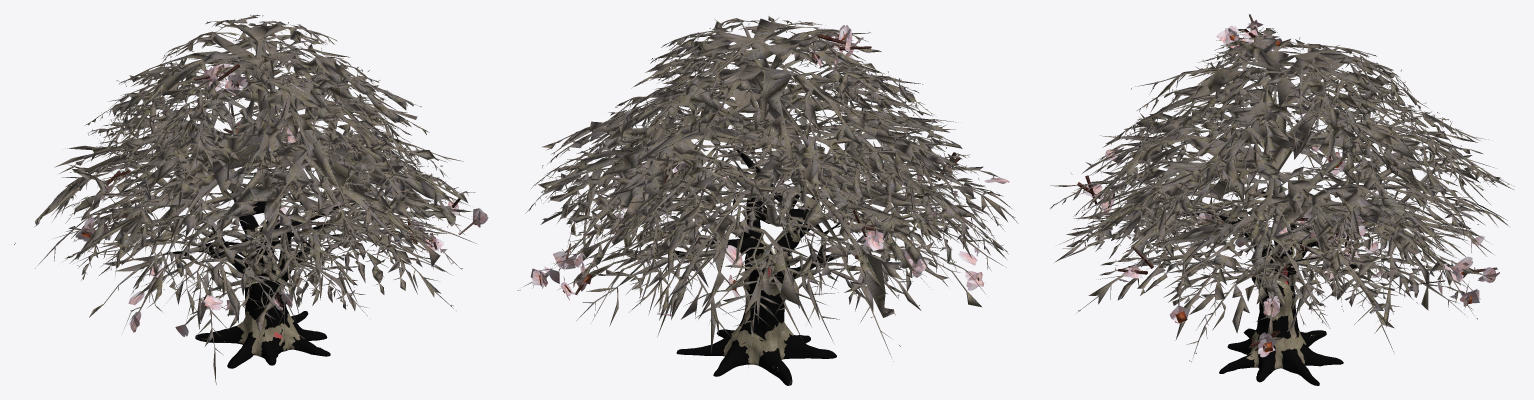
The model's file is tree.glb.
The picture shows the model from 3 angles, left to right: view 1: azimuth 30°, elevation 25°; view 2: azimuth 150°, elevation 25°; view 3: azimuth 270°, elevation 25°; orthographic projection. The views are drawn at different scales.
Visible parts, largest first — view 1: sakuratree_branch_top, sakuratree_branch_mid, sakuratree_trunk, sakura_canopy_bottom, sakura_canopy_top, sakuratree_branch_bottom; view 2: sakuratree_branch_top, sakuratree_branch_mid, sakuratree_trunk, sakura_canopy_top, sakuratree_branch_bottom, sakura_canopy_bottom; view 3: sakuratree_branch_top, sakuratree_branch_mid, sakuratree_trunk, sakura_canopy_top, sakura_canopy_bottom, sakuratree_branch_bottom.
Boxes of the visible parts, x1=… form: sakuratree_branch_top: x1=34, y1=15, x2=475, y2=307; sakuratree_branch_mid: x1=35, y1=64, x2=476, y2=384; sakuratree_trunk: x1=195, y1=191, x2=330, y2=368; sakura_canopy_bottom: x1=74, y1=75, x2=488, y2=336; sakura_canopy_top: x1=14, y1=15, x2=481, y2=269; sakuratree_branch_bottom: x1=181, y1=138, x2=334, y2=277; sakuratree_branch_top: x1=521, y1=16, x2=1018, y2=317; sakuratree_branch_mid: x1=558, y1=109, x2=1012, y2=367; sakuratree_trunk: x1=676, y1=196, x2=836, y2=385; sakura_canopy_top: x1=517, y1=22, x2=965, y2=346; sakuratree_branch_bottom: x1=679, y1=150, x2=856, y2=265; sakura_canopy_bottom: x1=593, y1=112, x2=1009, y2=333; sakuratree_branch_top: x1=1066, y1=27, x2=1488, y2=344; sakuratree_branch_mid: x1=1050, y1=104, x2=1513, y2=358; sakuratree_trunk: x1=1177, y1=209, x2=1374, y2=385; sakura_canopy_top: x1=1070, y1=14, x2=1499, y2=321; sakura_canopy_bottom: x1=1076, y1=121, x2=1508, y2=361; sakuratree_branch_bottom: x1=1187, y1=166, x2=1391, y2=272.
Size of the model in its own units: 10.1 by 7.22 by 10.03.
Materials: 4 (4 with a texture image).
